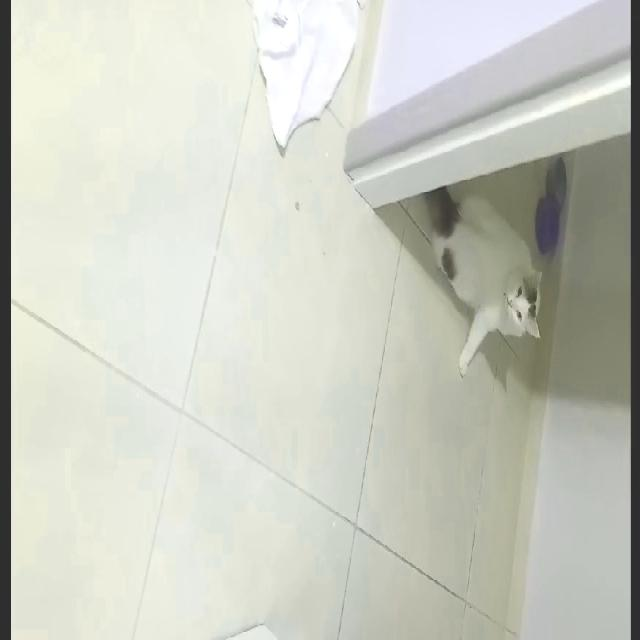Simba: (413, 203, 552, 381)
